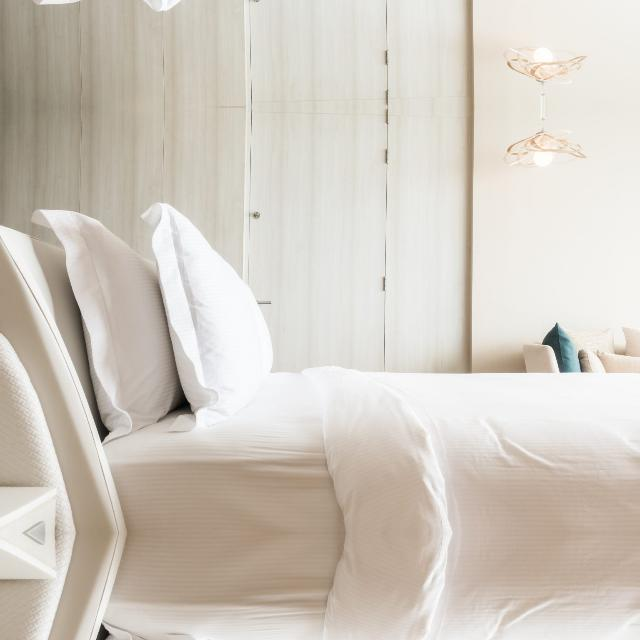pillow: (36, 208, 181, 441), (142, 196, 276, 429)
